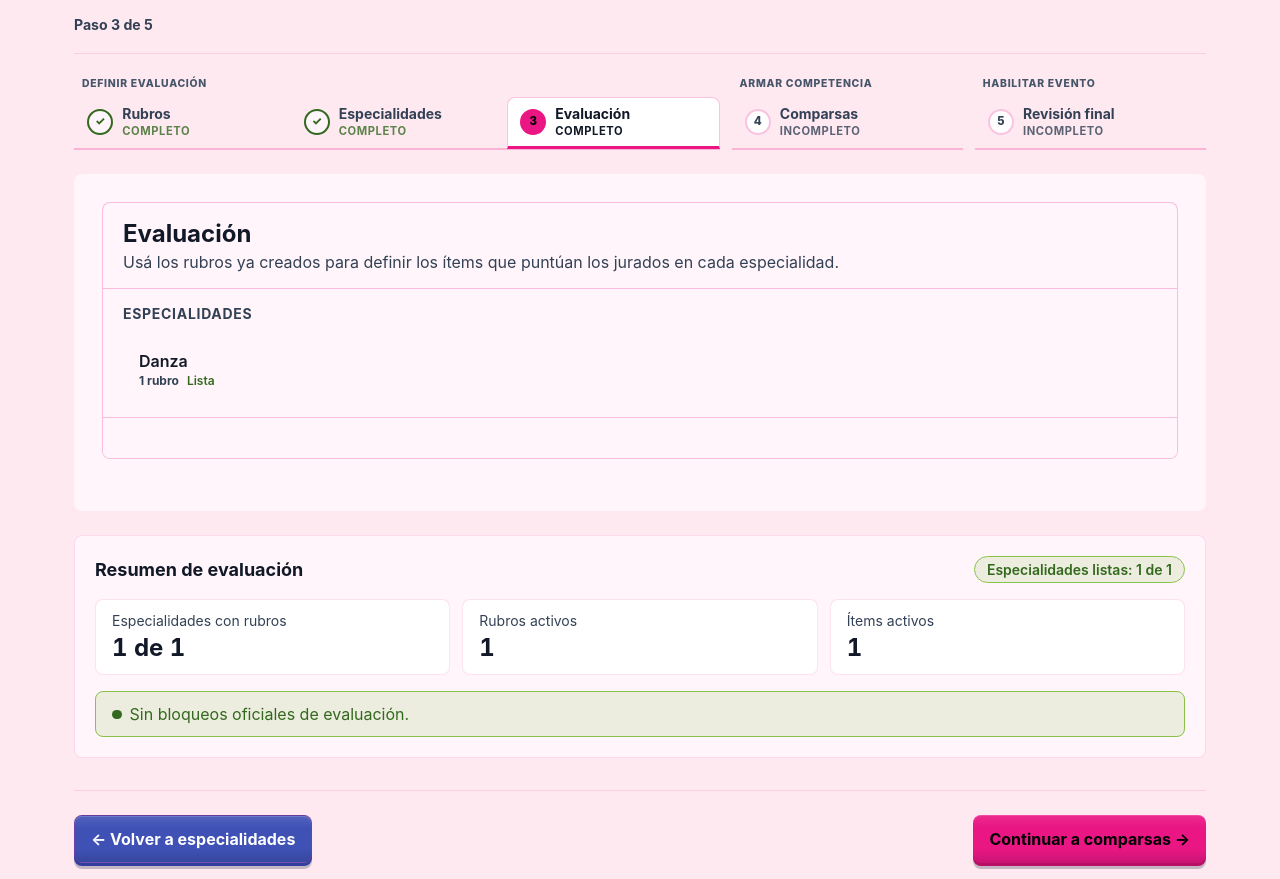
Test: readiness bloquea la apertura aunque la orientación visual esté completa
(page scrolled)
Expected: the text "Especialidades listas: 1 de 1" is shown, [974, 556, 1185, 584]
Expected: the text "Sin bloqueos oficiales de evaluación." is shown, [95, 692, 1185, 738]
Step 1. Click the button "Continuar a comparsas →" → (1090, 840), box [973, 816, 1206, 864]
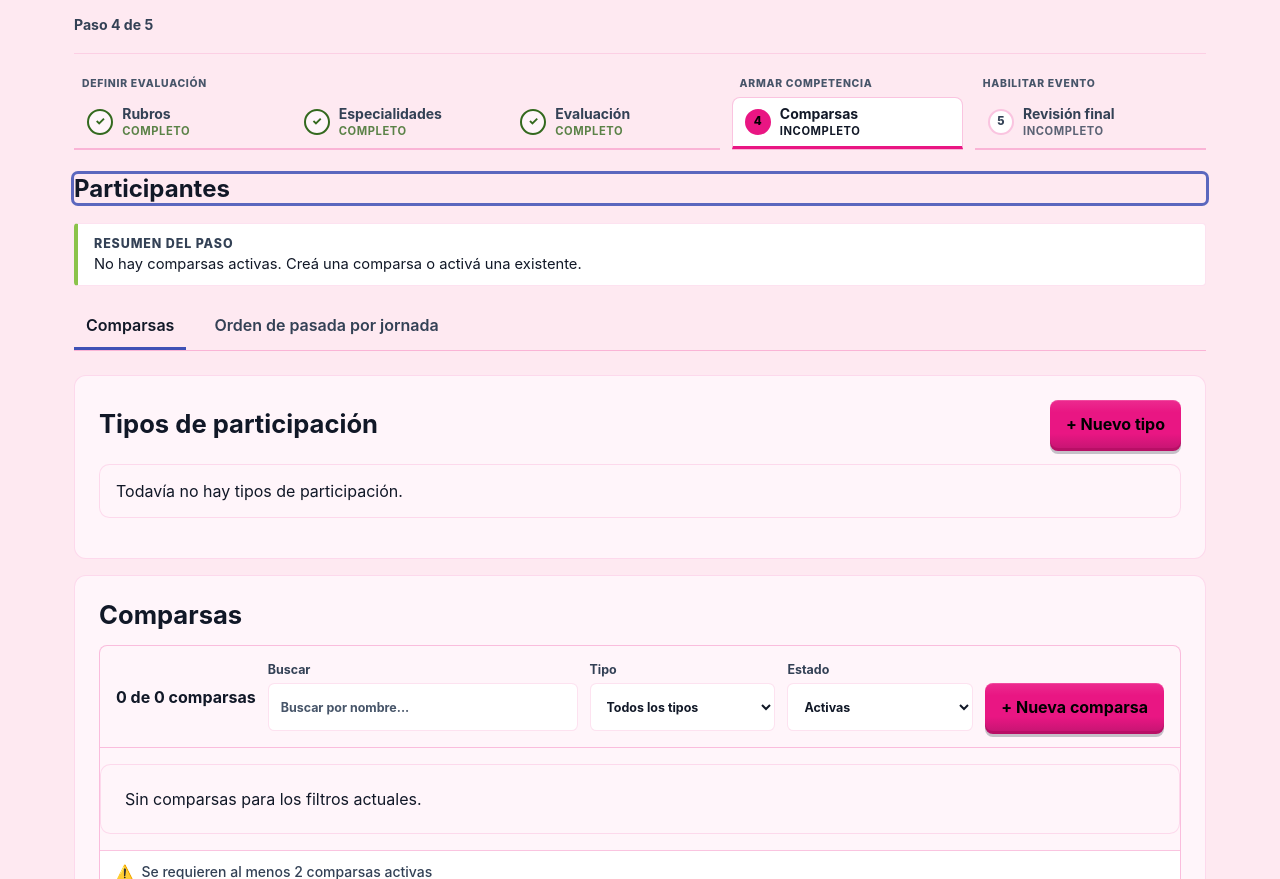
Step 2. Click the button "5 Revisión final Incompleto" → (1090, 123), box [975, 97, 1206, 149]
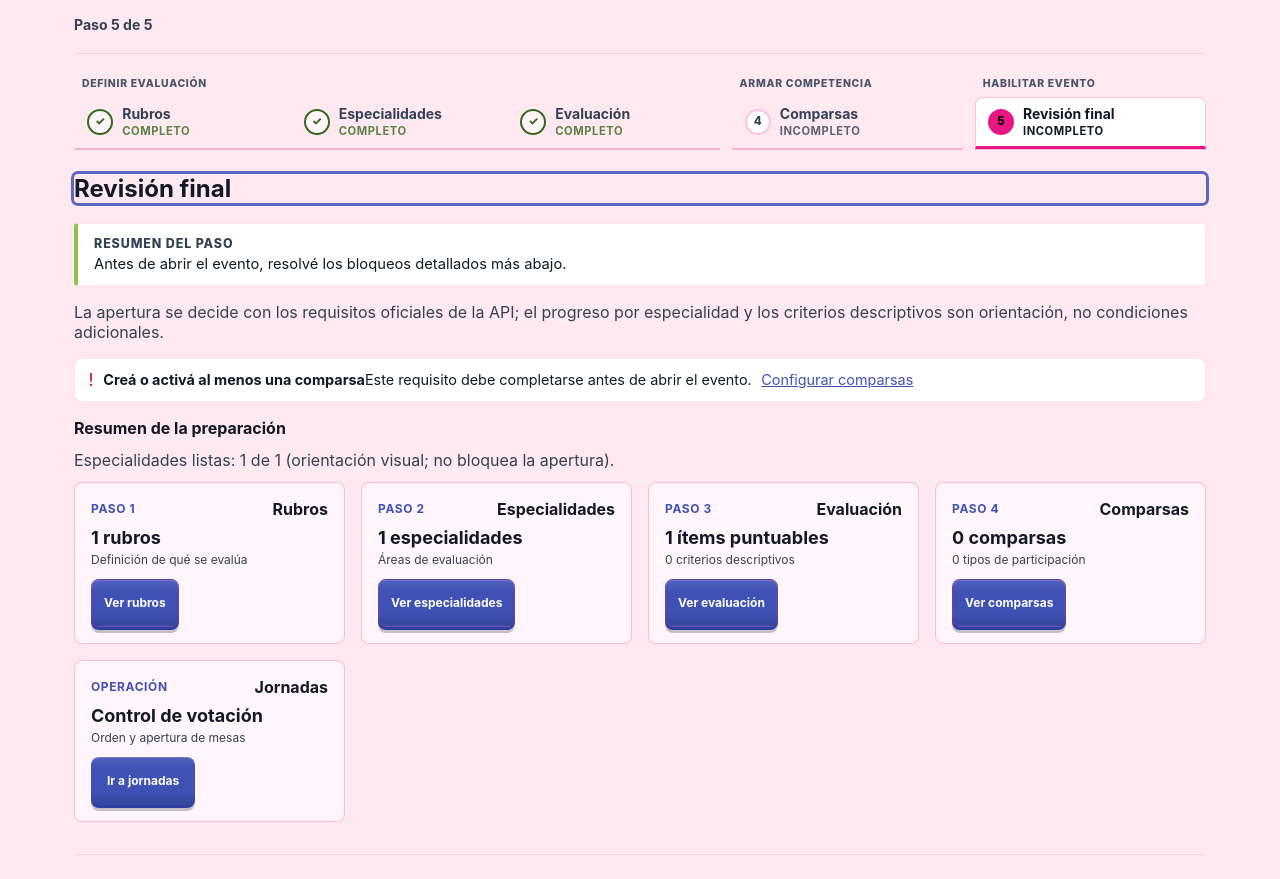
Result: the list named "Requisitos pendientes para abrir el evento" shows "comparsa" at [103, 371, 365, 388]
